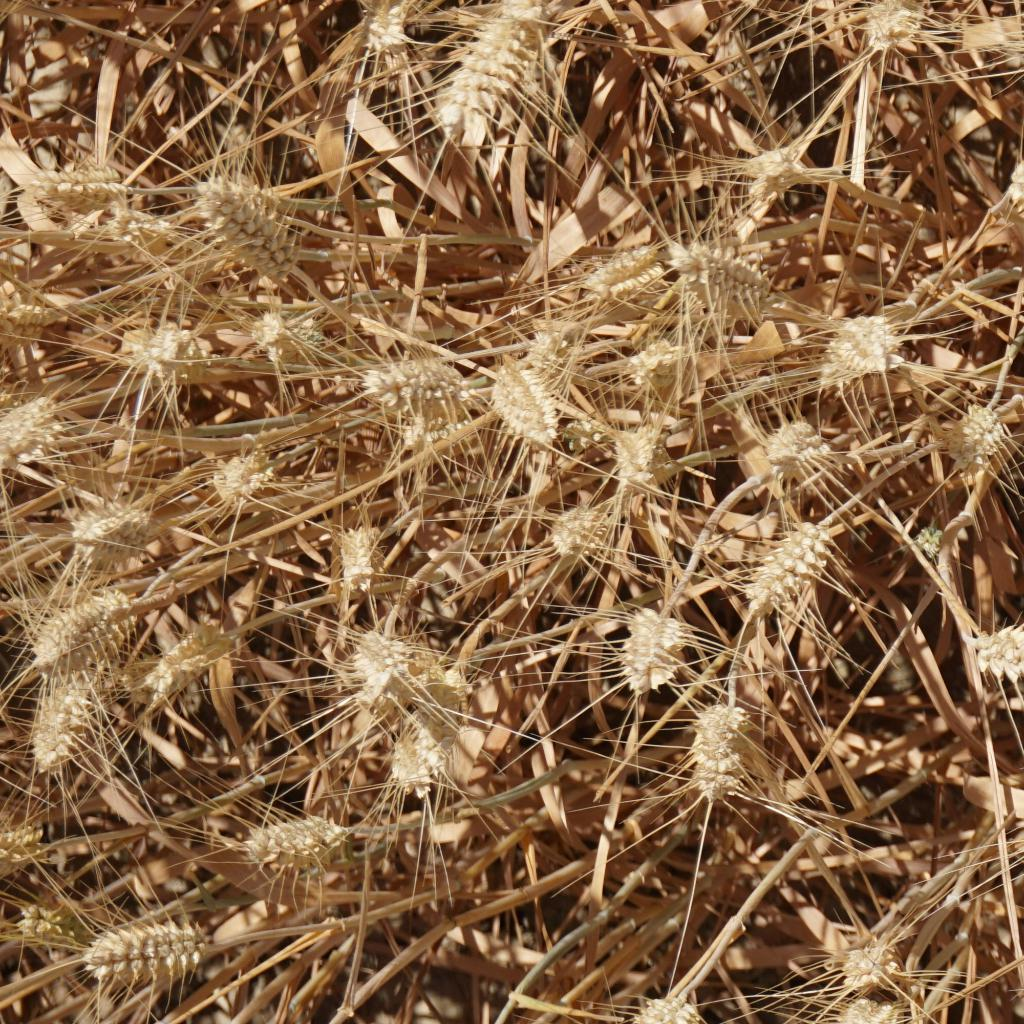0-0: (425, 6, 539, 134), (185, 157, 297, 277), (685, 695, 763, 821), (21, 579, 132, 665), (661, 232, 777, 313), (482, 346, 570, 451), (612, 598, 698, 702), (92, 913, 212, 984), (740, 516, 825, 614), (366, 344, 478, 417), (234, 803, 344, 876), (359, 716, 452, 799), (765, 403, 842, 498), (819, 293, 898, 384), (582, 230, 675, 307), (197, 421, 281, 500), (958, 610, 1024, 709), (0, 404, 72, 490), (27, 149, 134, 206), (70, 488, 149, 565), (624, 334, 697, 415), (616, 973, 729, 1024), (116, 297, 186, 379), (157, 622, 224, 707), (954, 395, 1024, 476), (29, 663, 86, 760), (840, 935, 915, 1006), (754, 132, 826, 204), (354, 626, 421, 702), (856, 0, 931, 67), (249, 299, 321, 362), (15, 889, 84, 953), (537, 494, 606, 557), (0, 278, 56, 349), (330, 507, 381, 584), (0, 807, 54, 876), (903, 503, 955, 573), (602, 423, 657, 480), (348, 0, 409, 47), (994, 128, 1024, 210)
